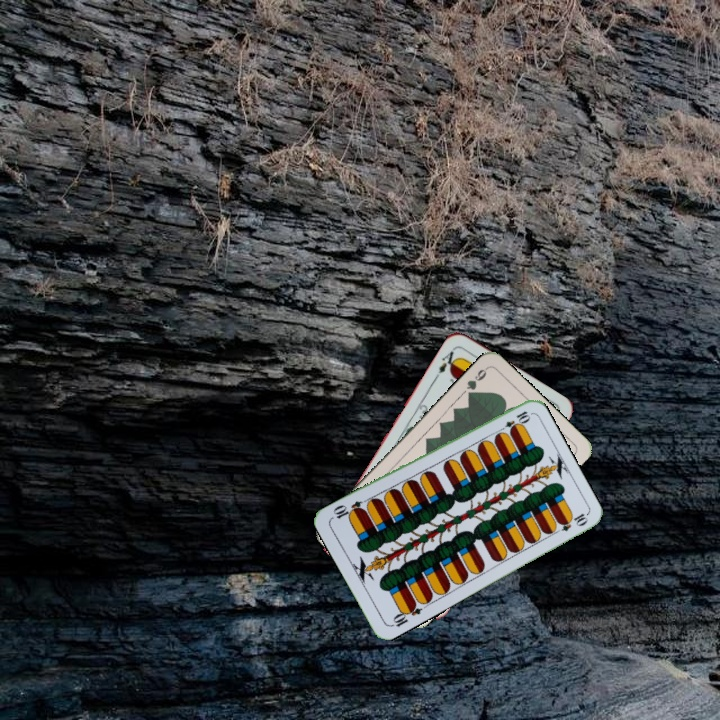E10: (387, 599, 424, 630), (494, 407, 532, 436)
EA: (431, 344, 461, 381)
G9: (462, 363, 490, 400)
